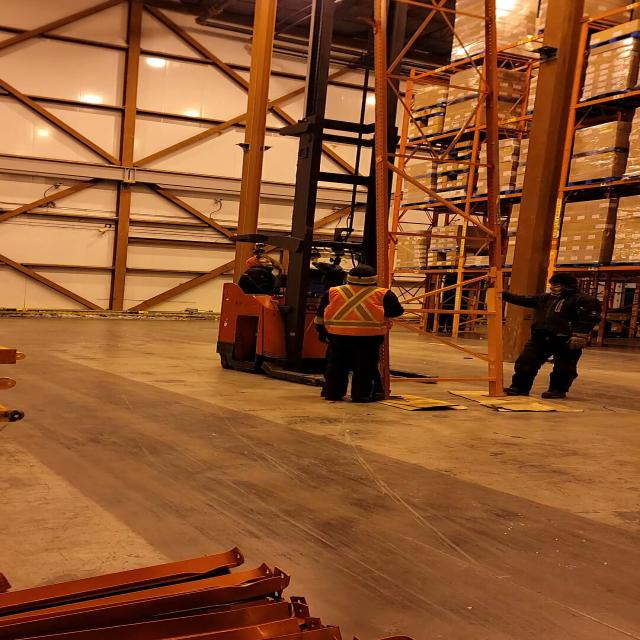forklift: (211, 119, 447, 397)
human: (497, 269, 604, 401), (311, 264, 408, 401), (225, 251, 298, 295)
objectofinterest: (372, 2, 511, 403), (441, 386, 584, 416), (360, 390, 466, 410)
